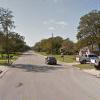Tree: (60, 6, 100, 53)
